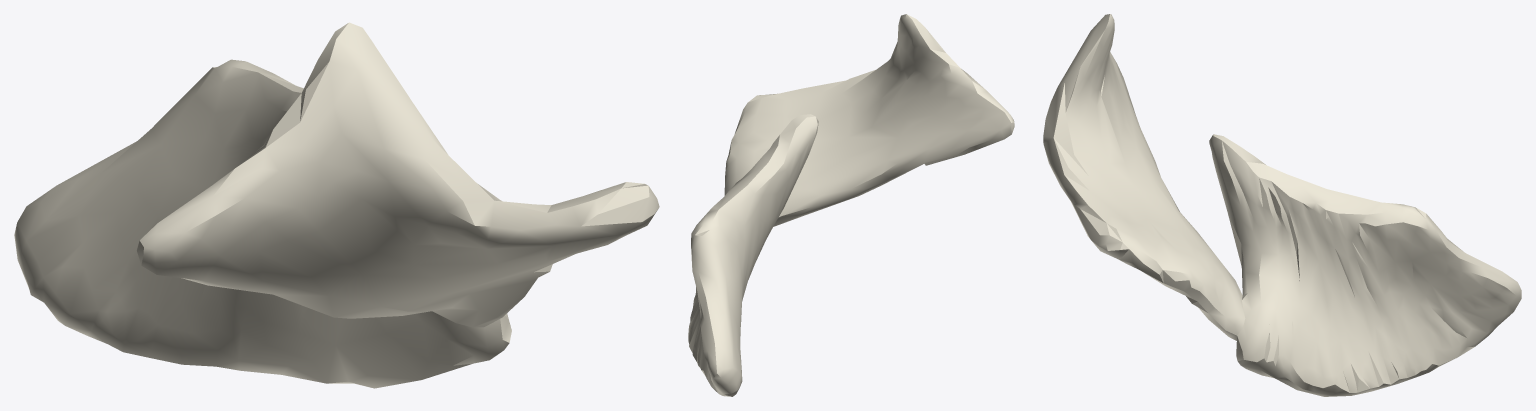
File: fma44203_mm1387.glb
3 renders of one model, left to right at view 1: azimuth 30°, elevation 25°; view 2: azimuth 150°, elevation 25°; view 3: azimuth 270°, elevation 25°, orthographic. The views are drawn at different scales.
Visible parts, largest first — view 1: FMA44203_MM1387; view 2: FMA44203_MM1387; view 3: FMA44203_MM1387.
Boxes of the visible parts, x1=… form: FMA44203_MM1387: x1=14, y1=22, x2=659, y2=388; FMA44203_MM1387: x1=688, y1=14, x2=1014, y2=396; FMA44203_MM1387: x1=1043, y1=14, x2=1521, y2=396.
Size of the model in its own units: 0.0227 by 0.0233 by 0.0309.
